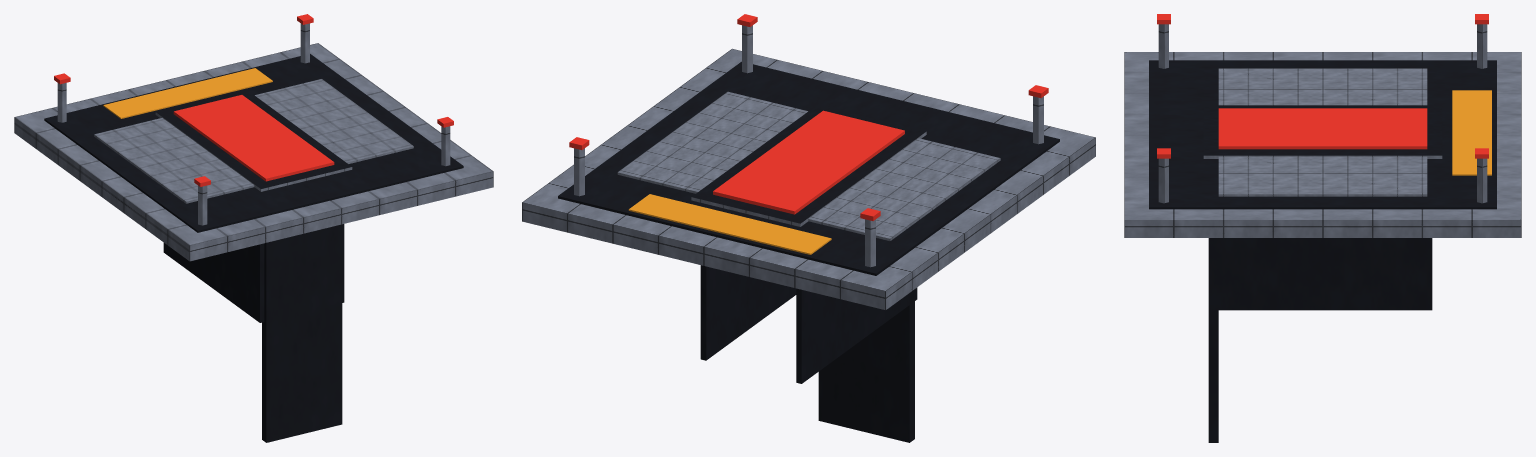
File: w_hatch.glb
The picture shows the model from 3 angles, left to right: view 1: azimuth 30°, elevation 25°; view 2: azimuth 150°, elevation 25°; view 3: azimuth 270°, elevation 25°; orthographic projection. The views are drawn at different scales.
Visible parts, largest first — view 1: Hatch, Cover; view 2: Hatch, Cover; view 3: Hatch, Cover.
Part boxes in pixels (x1=…): Hatch: x1=14, y1=14, x2=493, y2=442; Cover: x1=155, y1=90, x2=352, y2=191; Hatch: x1=522, y1=14, x2=1095, y2=442; Cover: x1=691, y1=105, x2=926, y2=226; Hatch: x1=1124, y1=14, x2=1521, y2=442; Cover: x1=1203, y1=105, x2=1442, y2=158.
Size of the model in its own units: 8 by 7.5 by 8.
Materials: 5 (5 with a texture image).
